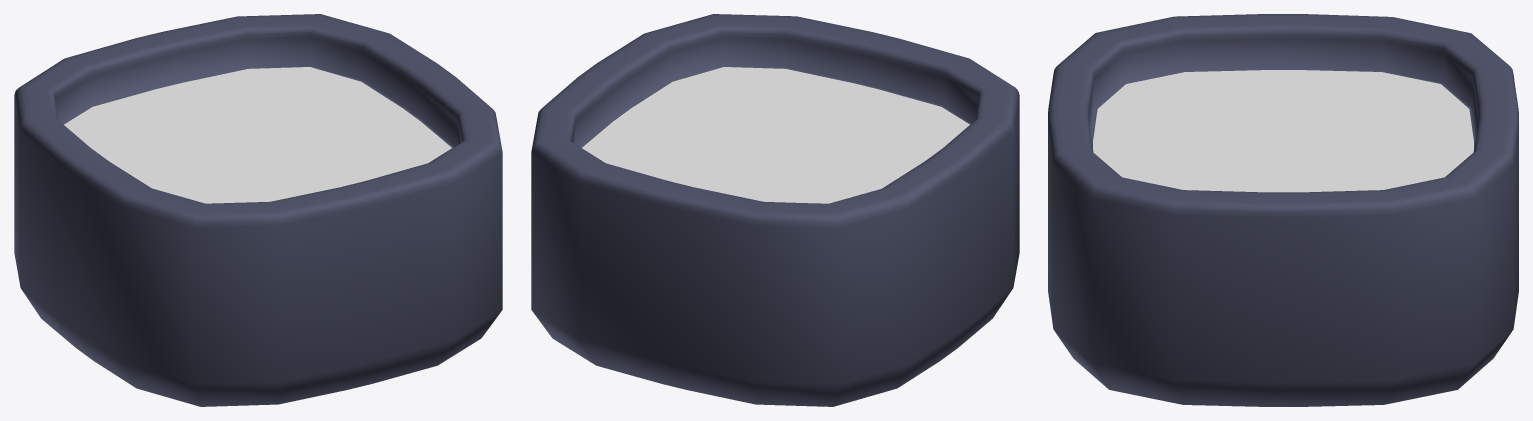
The model's file is Powder.glb.
3 views of the same model, side by side, from view 1: azimuth 30°, elevation 25°; view 2: azimuth 150°, elevation 25°; view 3: azimuth 270°, elevation 25° (orthographic). The views are drawn at different scales.
Visible parts, largest first — view 1: Cube, Cube.001; view 2: Cube, Cube.001; view 3: Cube, Cube.001.
Boxes of the visible parts, left/top/right/bottom form: Cube: left=14, top=14, right=502, bottom=406; Cube.001: left=64, top=67, right=451, bottom=203; Cube: left=531, top=14, right=1019, bottom=406; Cube.001: left=582, top=67, right=969, bottom=203; Cube: left=1048, top=14, right=1518, bottom=406; Cube.001: left=1093, top=70, right=1473, bottom=192.
Bounding box in the file's own units: 1.07 × 0.5331 × 1.09.
